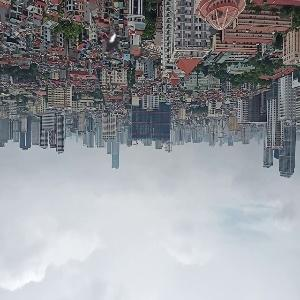drone: (79, 11, 152, 84)
